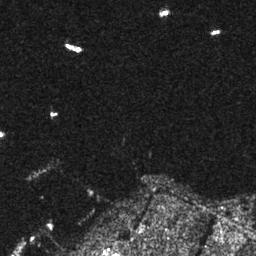ship: (64, 40, 82, 53), (158, 8, 170, 17), (50, 110, 59, 117), (210, 29, 220, 35)
